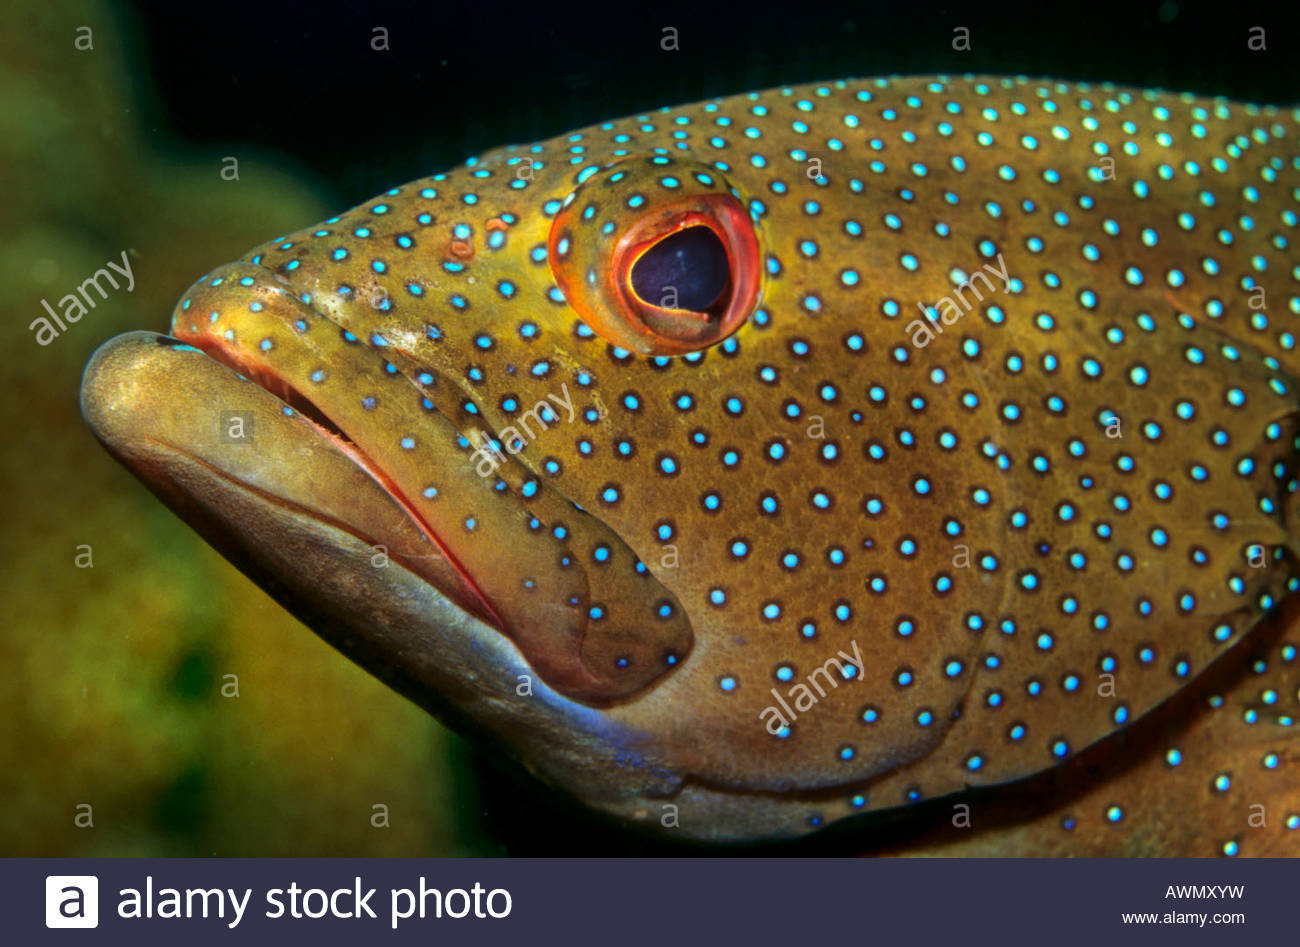Cephalopholis_fulvaw: (45, 36, 1300, 851)
